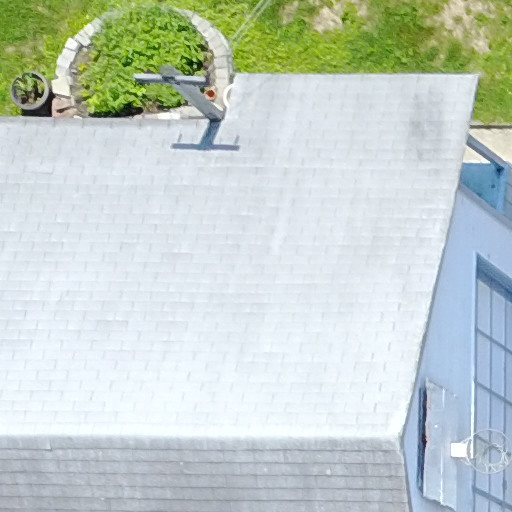container: (201, 84, 218, 103)
flower pot: (9, 67, 53, 120)
